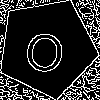O: (22, 23, 68, 74)
